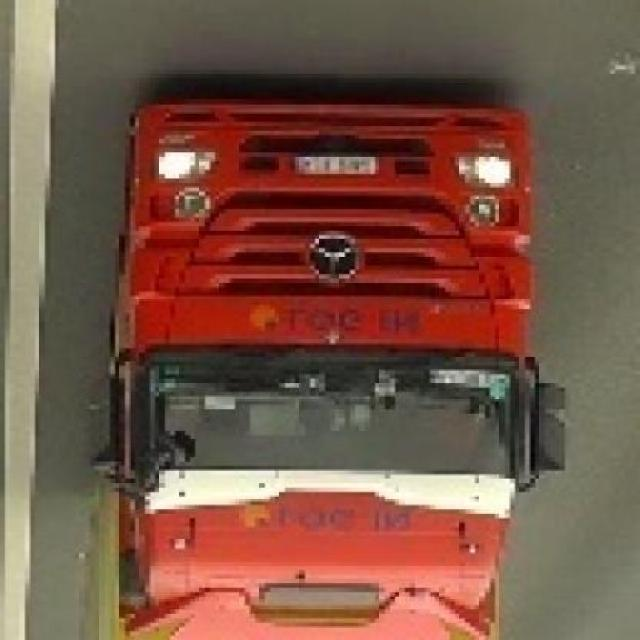truck: (120, 92, 571, 640)
